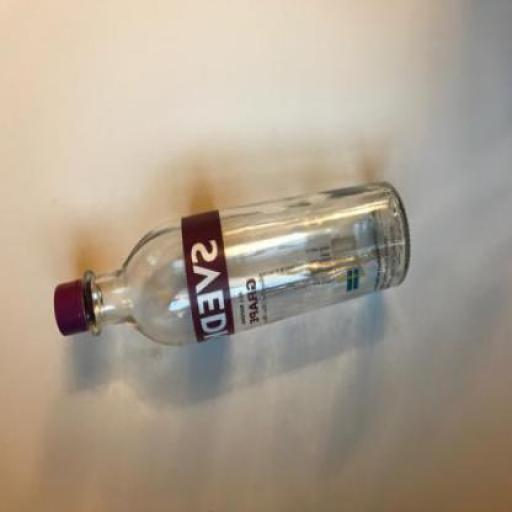glass: (80, 182, 410, 346)
plastic: (52, 282, 90, 336)
